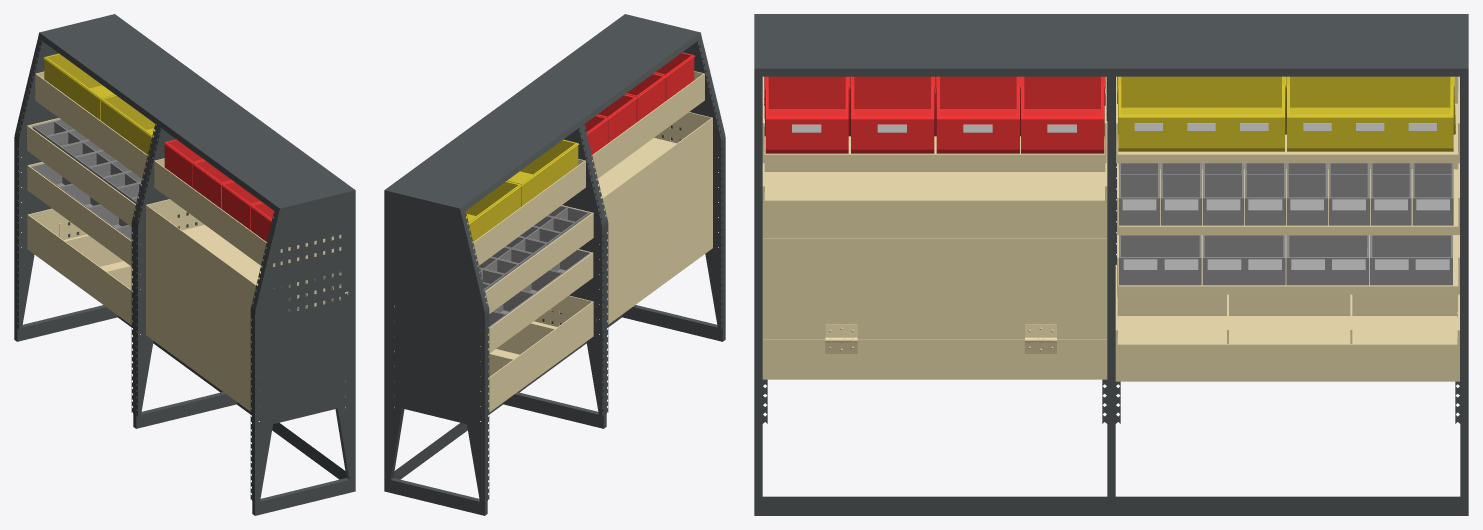
Rendered from BuildersKit–MediumBays.fbx.
3 views of the same model, side by side, from view 1: azimuth 30°, elevation 25°; view 2: azimuth 150°, elevation 25°; view 3: azimuth 270°, elevation 25° (orthographic). The views are drawn at different scales.
Visible parts, largest first — view 1: Steel, Cream_Paint, Gray_Plastic, Yellow, RED_Plastic; view 2: Steel, Cream_Paint, Gray_Plastic, Yellow, RED_Plastic; view 3: Cream_Paint, Steel, Gray_Plastic, RED_Plastic, Yellow, White.
Part boxes in pixels (x1,y1,x2,y2): Steel: (14, 14, 355, 515); Cream_Paint: (27, 71, 348, 411); Gray_Plastic: (31, 119, 143, 244); Yellow: (43, 53, 156, 155); RED_Plastic: (163, 139, 275, 242); Steel: (384, 14, 725, 515); Cream_Paint: (394, 71, 712, 412); Gray_Plastic: (478, 205, 590, 331); Yellow: (464, 139, 579, 242); RED_Plastic: (583, 52, 695, 155); Cream_Paint: (762, 76, 1459, 381); Steel: (754, 14, 1468, 515); Gray_Plastic: (1119, 163, 1453, 285); RED_Plastic: (764, 76, 1105, 153); Yellow: (1117, 76, 1455, 151); White: (792, 123, 1449, 269).
Size of the model in its own units: 414 by 1160 by 1680.
